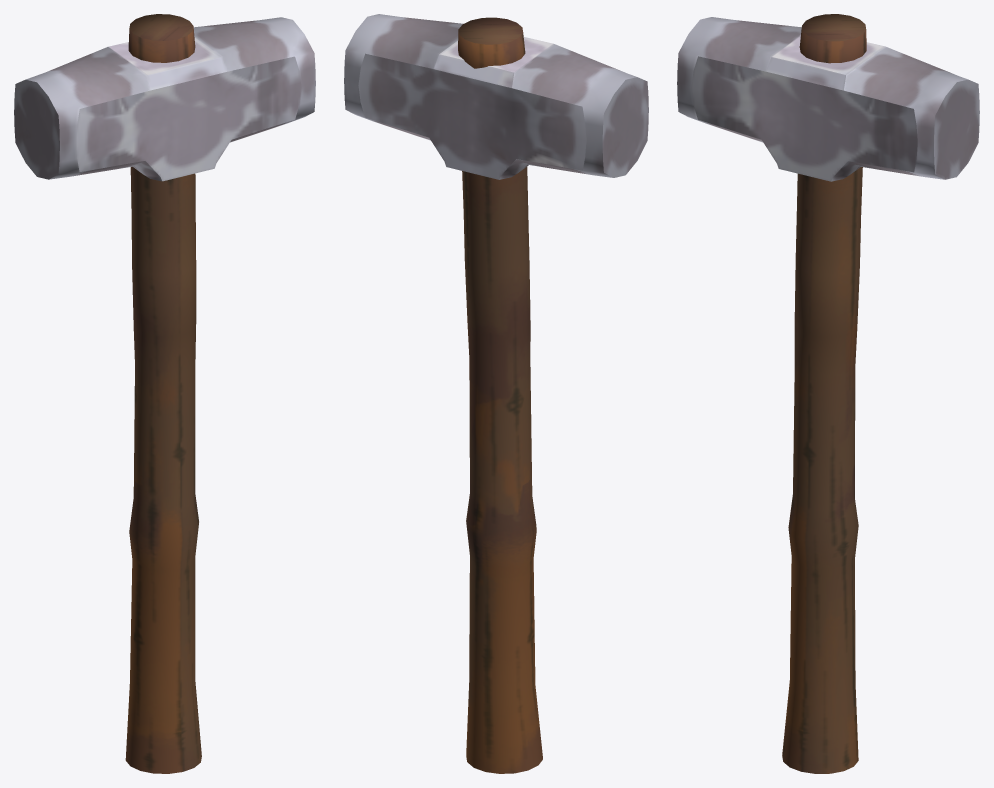
File: Hammer_Medium_Steel.fbx
3 renders of one model, left to right at view 1: azimuth 30°, elevation 25°; view 2: azimuth 150°, elevation 25°; view 3: azimuth 330°, elevation 25°, orthographic.
Visible parts, largest first — view 1: Hammer_Medium_Steel; view 2: Hammer_Medium_Steel; view 3: Hammer_Medium_Steel.
Boxes of the visible parts, bbox=[...] form: Hammer_Medium_Steel: bbox=[14, 14, 315, 773]; Hammer_Medium_Steel: bbox=[344, 14, 648, 773]; Hammer_Medium_Steel: bbox=[677, 14, 979, 773].
Bounding box in the file's own units: 15.29 × 41.36 × 4.93.
